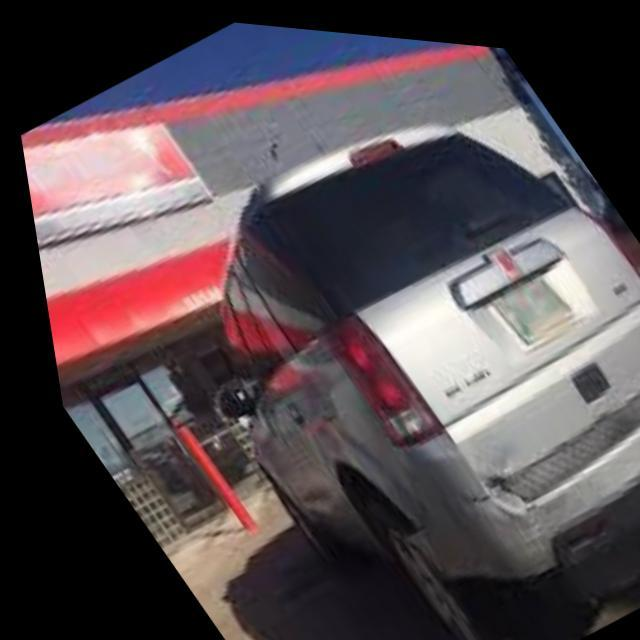crack: (442, 451, 531, 545)
